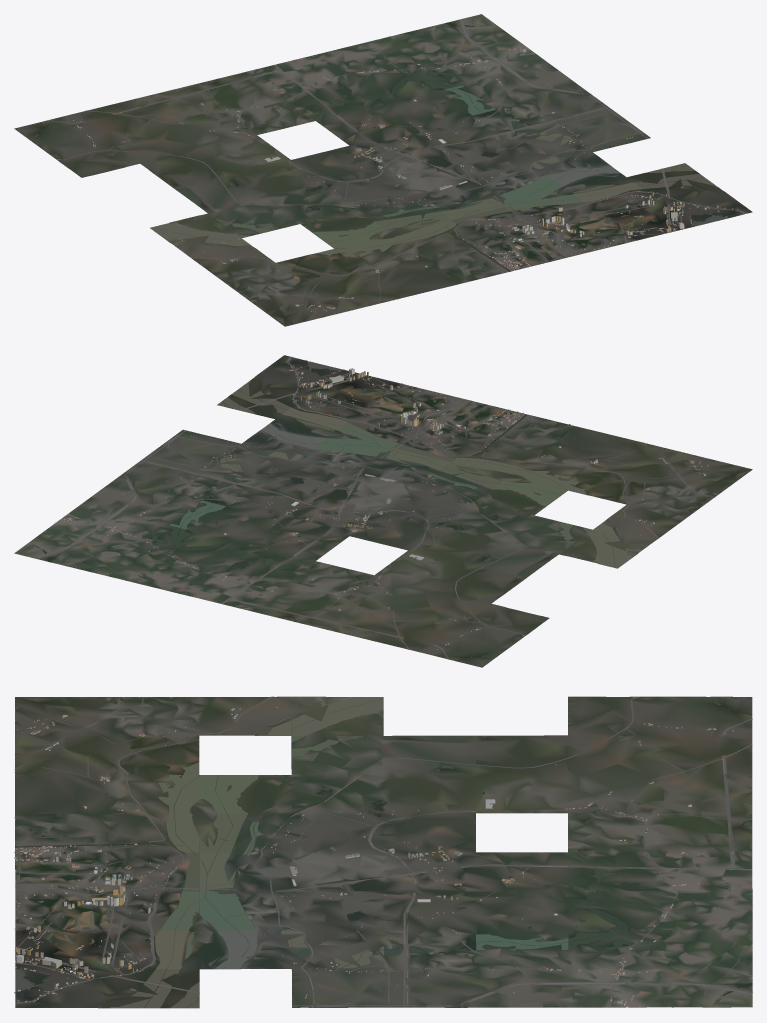
The picture shows the model from 3 angles, top to bottom: view 1: azimuth 30°, elevation 25°; view 2: azimuth 150°, elevation 25°; view 3: azimuth 270°, elevation 25°; orthographic projection. The views are drawn at different scales.
Parts seen in each view (by area): view 1: ground, water, roads, buildings; view 2: ground, water, roads, buildings; view 3: ground, water, roads, buildings.
Boxes of the visible parts, x1,y1,x2,y2 form: ground: (14,14,752,326); water: (34,22,739,317); roads: (47,18,746,310); buildings: (58,36,743,313); ground: (14,355,752,667); water: (33,359,722,659); roads: (32,356,707,659); buildings: (55,357,708,649); ground: (15,696,752,1008); water: (15,697,752,1008); roads: (14,696,752,1007); buildings: (14,697,752,1007).
Size of the model in its own units: 11212 by 142 by 11241.
